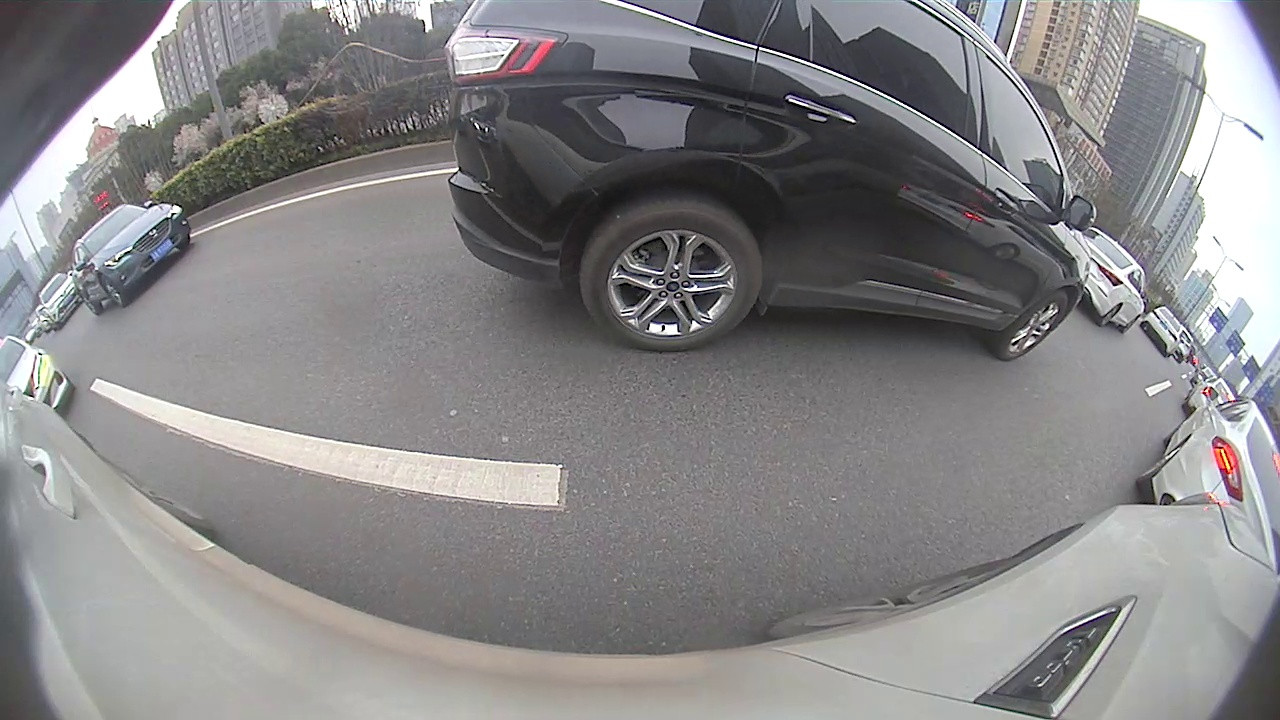car: (443, 2, 1093, 363), (1133, 385, 1277, 577), (68, 200, 193, 315), (1082, 227, 1146, 334), (35, 273, 82, 331), (1140, 304, 1186, 359)
front: (999, 288, 1070, 362)
rear: (580, 201, 764, 351)
